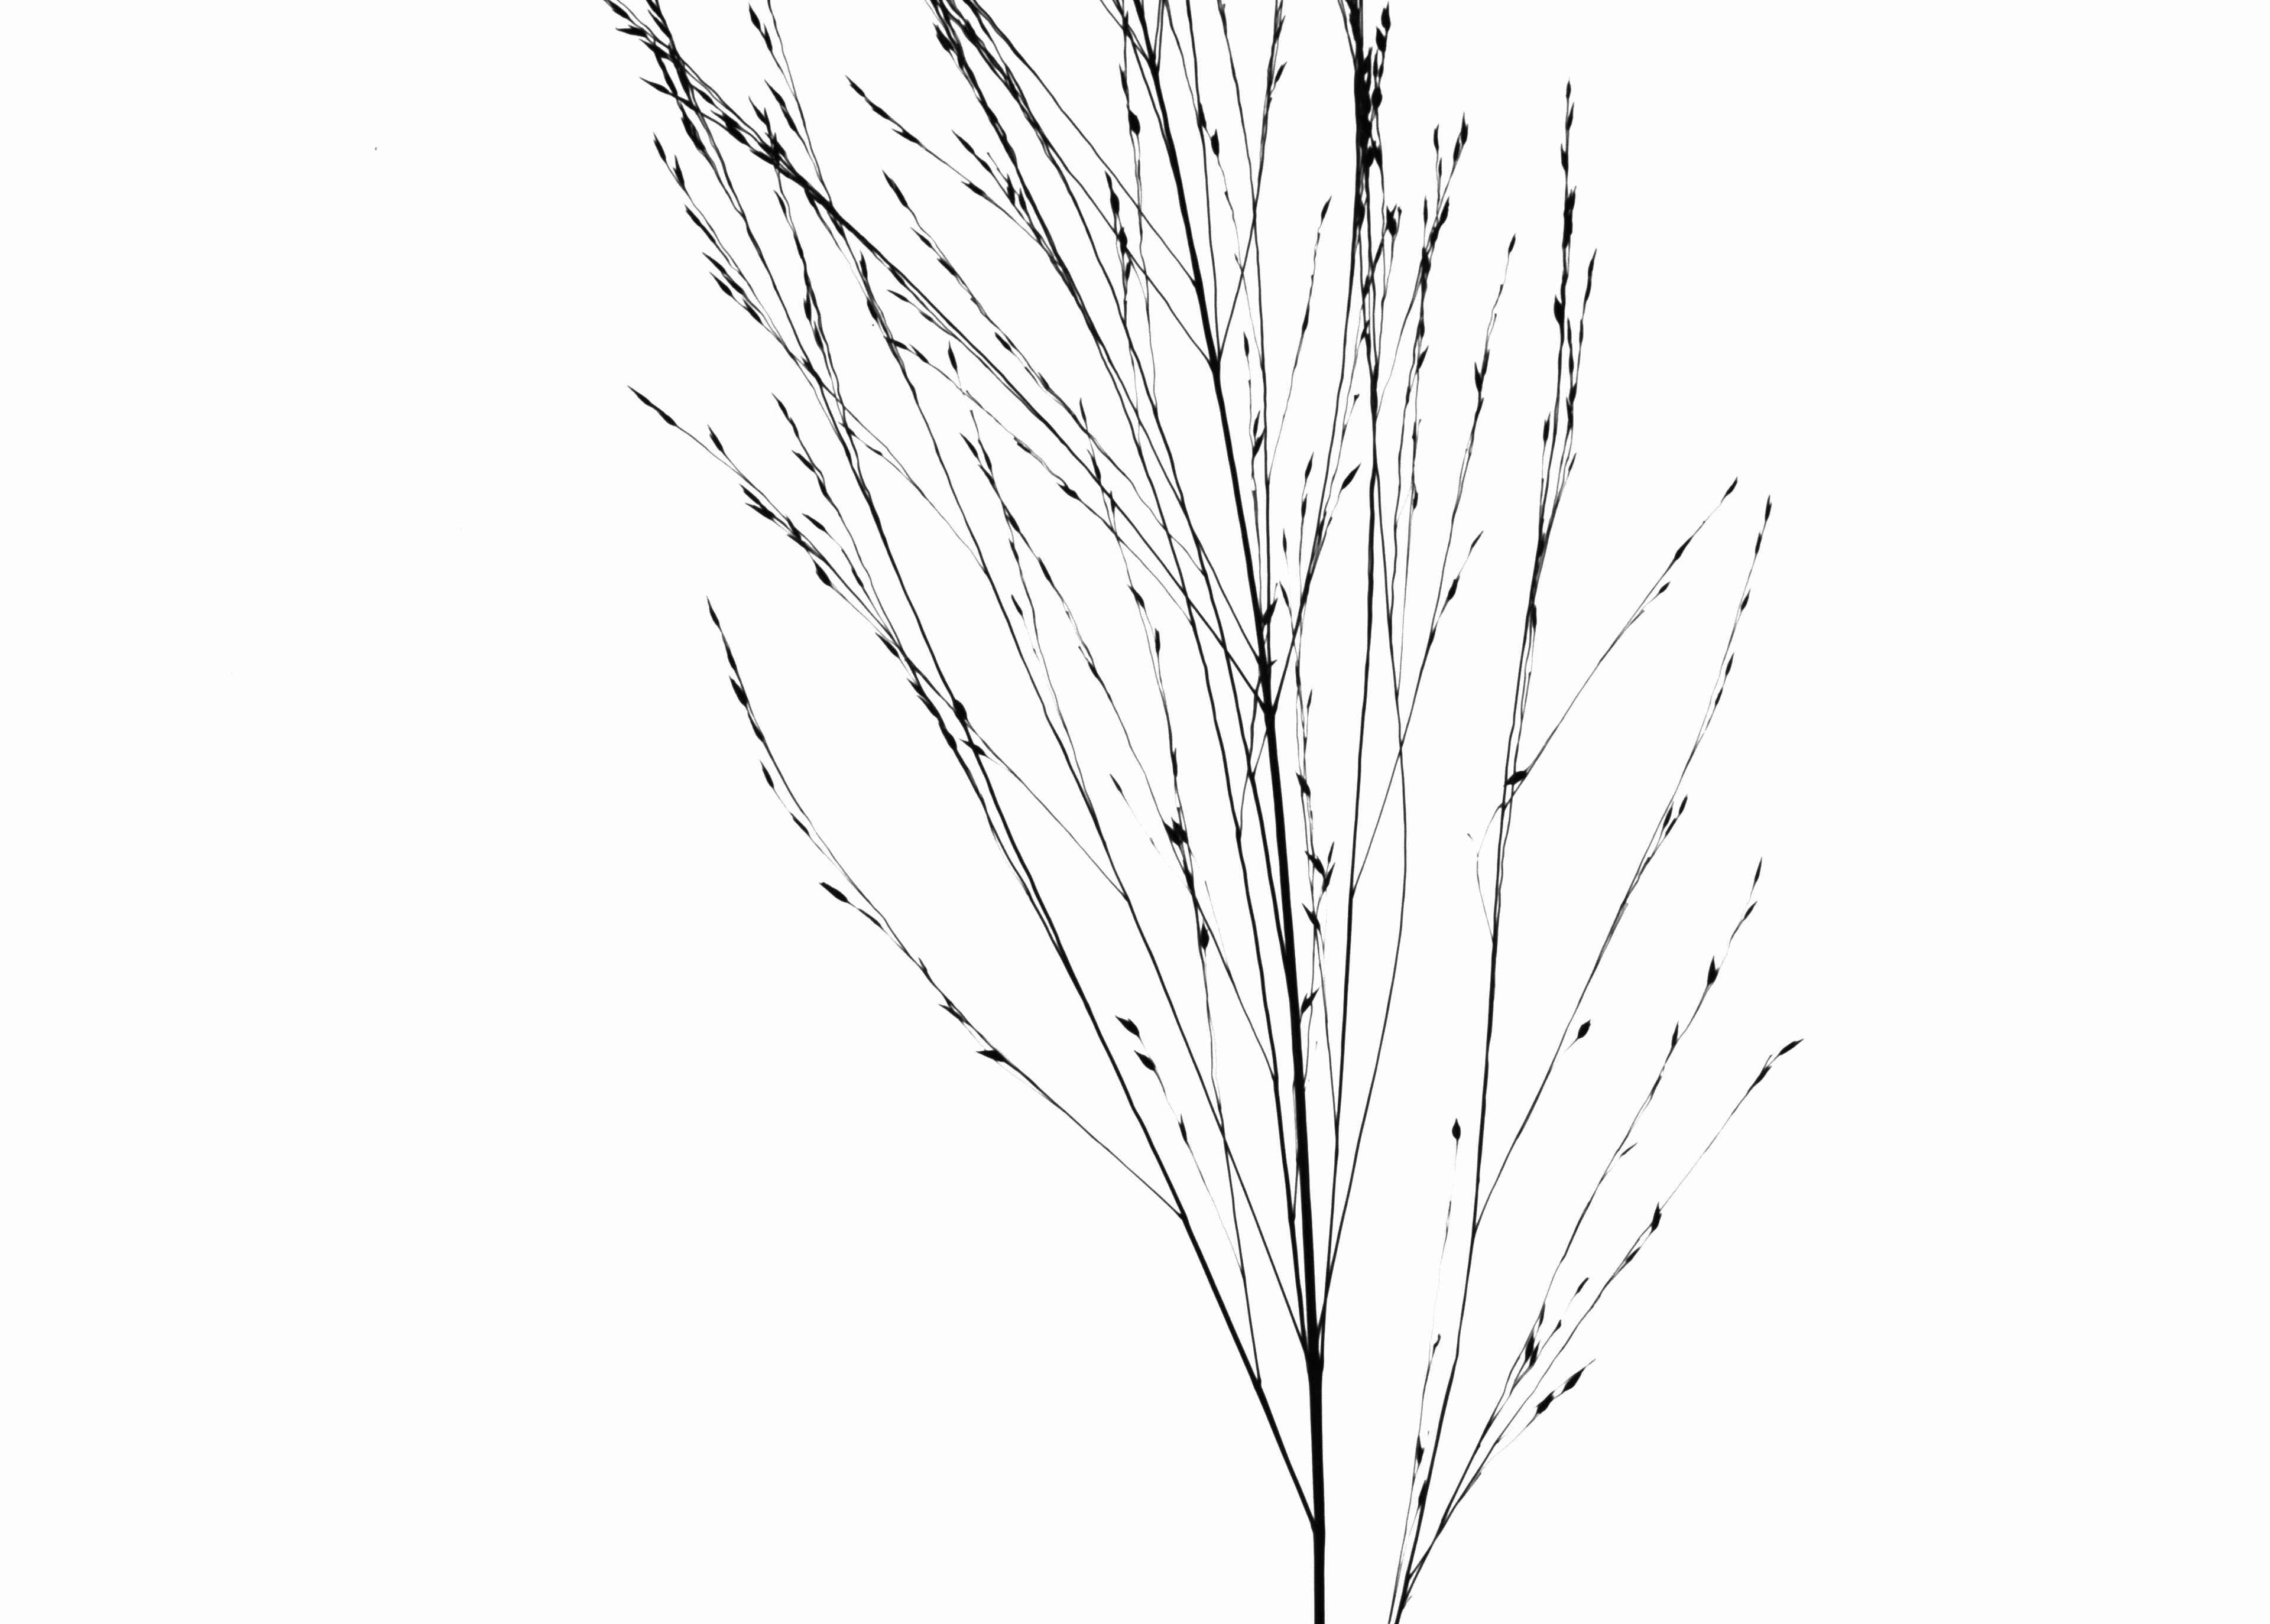seed: (1558, 1353, 1602, 1404), (1519, 1385, 1563, 1434), (1772, 1019, 1816, 1065), (876, 163, 916, 213), (1727, 893, 1772, 935), (1101, 759, 1134, 812), (1641, 1058, 1672, 1113), (779, 807, 830, 840), (934, 993, 978, 1032), (811, 872, 858, 907), (1292, 896, 1331, 939), (1734, 1062, 1779, 1097), (1517, 596, 1547, 649), (1289, 982, 1329, 1021), (1751, 485, 1783, 533), (1185, 914, 1220, 956), (717, 671, 760, 707), (1108, 1004, 1148, 1039), (1743, 520, 1778, 561), (967, 1039, 1015, 1069), (1739, 845, 1771, 889), (1646, 1192, 1676, 1237), (696, 592, 731, 631), (693, 246, 735, 278), (751, 758, 784, 796), (1336, 459, 1368, 499), (1099, 163, 1124, 214), (1131, 1049, 1168, 1083), (735, 292, 767, 330), (925, 21, 957, 60), (1500, 754, 1532, 793), (617, 376, 658, 406), (1716, 649, 1748, 685), (1298, 446, 1328, 485), (758, 76, 793, 107), (638, 72, 673, 104), (1401, 1432, 1433, 1468), (855, 905, 891, 935), (958, 178, 995, 207), (642, 128, 672, 165), (1248, 425, 1277, 464), (960, 736, 999, 765), (1704, 677, 1732, 715), (1697, 949, 1723, 990), (1444, 1111, 1470, 1151), (988, 325, 1020, 359), (789, 446, 821, 480), (1442, 569, 1463, 619), (1080, 446, 1106, 485), (858, 98, 897, 125), (1568, 1016, 1600, 1048), (1714, 473, 1744, 506), (1663, 1016, 1688, 1056), (948, 691, 976, 726), (703, 420, 731, 455), (709, 272, 735, 309), (1036, 552, 1060, 591), (1118, 105, 1146, 139), (807, 557, 835, 591), (1071, 394, 1097, 429), (1732, 582, 1758, 617), (688, 81, 717, 111), (1122, 582, 1152, 612), (935, 253, 967, 281), (1465, 352, 1486, 394), (939, 336, 962, 374), (883, 283, 916, 309), (891, 125, 925, 151), (1051, 478, 1085, 504), (1292, 770, 1319, 803), (742, 93, 767, 128), (1609, 1141, 1644, 1165), (1315, 190, 1338, 227), (899, 675, 935, 698), (872, 631, 902, 659), (877, 330, 909, 357), (1298, 849, 1329, 875), (714, 125, 747, 149), (957, 427, 981, 460), (798, 508, 832, 533), (1259, 592, 1280, 631), (735, 483, 770, 506), (909, 228, 939, 255), (948, 127, 974, 156), (809, 475, 835, 504), (775, 415, 805, 441), (1245, 404, 1266, 441), (1110, 63, 1134, 95), (1270, 56, 1291, 93), (1414, 190, 1435, 227), (735, 504, 779, 522), (851, 246, 874, 279), (740, 4, 763, 37), (652, 408, 686, 431), (1006, 589, 1029, 622), (612, 26, 651, 46), (710, 111, 746, 132), (918, 692, 944, 721), (1271, 580, 1296, 610), (1466, 524, 1489, 555), (1294, 487, 1313, 524), (1547, 292, 1567, 329), (1371, 21, 1393, 54), (1176, 1109, 1192, 1153), (1570, 1269, 1597, 1295), (969, 153, 997, 178), (909, 341, 934, 369), (839, 74, 867, 98), (913, 953, 935, 982), (1113, 11, 1136, 40), (1377, 4, 1400, 33), (1648, 578, 1677, 601), (1459, 105, 1475, 148), (1537, 408, 1554, 445), (1677, 782, 1695, 819), (1449, 134, 1468, 167), (1278, 520, 1294, 561), (1171, 816, 1192, 845), (1234, 330, 1255, 360), (1004, 534, 1025, 564), (1368, 83, 1389, 112), (761, 109, 779, 144), (760, 23, 777, 58), (673, 149, 688, 193), (1554, 139, 1572, 174), (1563, 100, 1582, 132), (765, 387, 789, 411), (797, 290, 818, 318), (1102, 487, 1124, 515), (1414, 1480, 1431, 1513), (1415, 343, 1433, 376), (1208, 125, 1224, 162), (1111, 223, 1131, 253), (1357, 46, 1375, 77), (1382, 206, 1400, 237), (979, 443, 997, 475), (770, 186, 789, 214), (1656, 801, 1676, 830), (1002, 170, 1018, 204), (1152, 620, 1164, 663), (1530, 1338, 1544, 1374), (1160, 819, 1180, 845), (1363, 139, 1379, 170), (1194, 102, 1210, 130), (1438, 195, 1452, 227), (1002, 511, 1023, 533), (1558, 77, 1577, 100), (1563, 395, 1575, 431), (1430, 121, 1444, 151), (1505, 230, 1519, 260), (1271, 16, 1287, 42), (1083, 661, 1102, 682), (1567, 185, 1579, 214), (1016, 183, 1025, 223), (1537, 1301, 1549, 1327), (1435, 155, 1445, 183), (1523, 1327, 1533, 1355), (1171, 745, 1180, 779), (1568, 380, 1581, 402), (1568, 450, 1579, 473), (1667, 817, 1677, 838)
